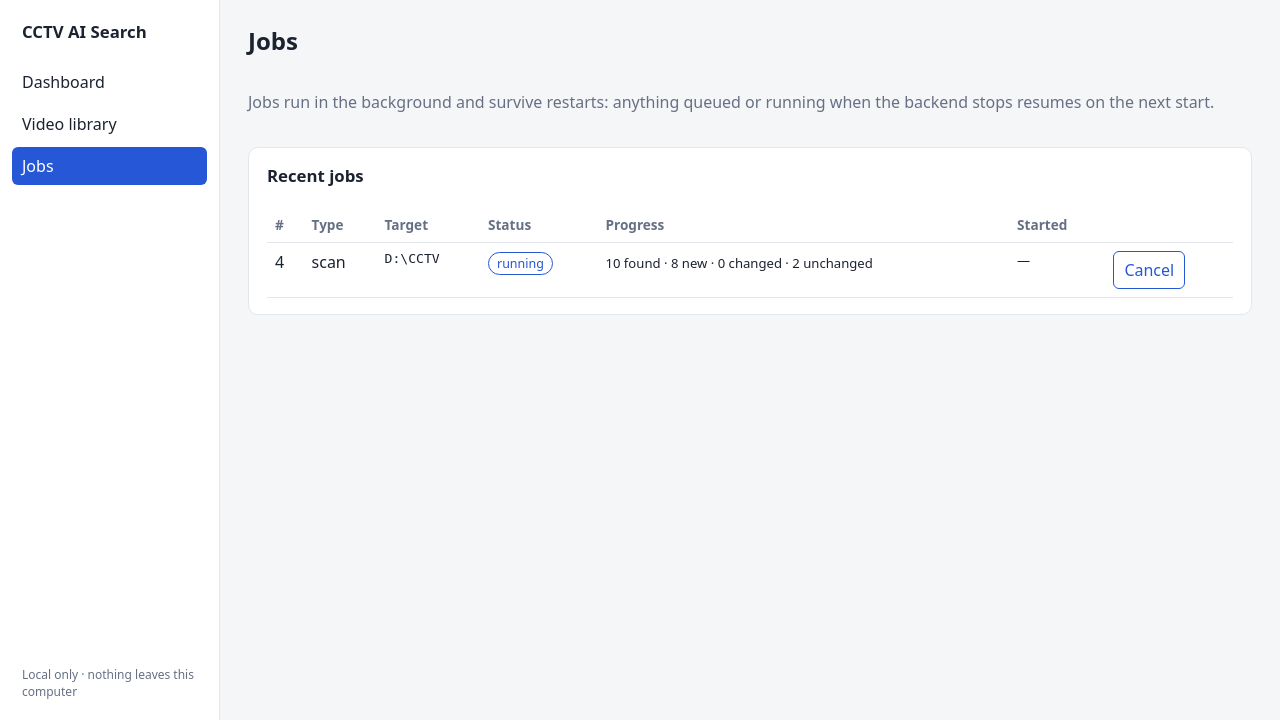
Test: Jobs › cancels a running job
Check: the text "10 found · 8 new · 0 changed · 2 unchanged" is shown, box [606, 254, 873, 272]
Click the button "Cancel" at (1149, 270), box [1113, 251, 1185, 289]
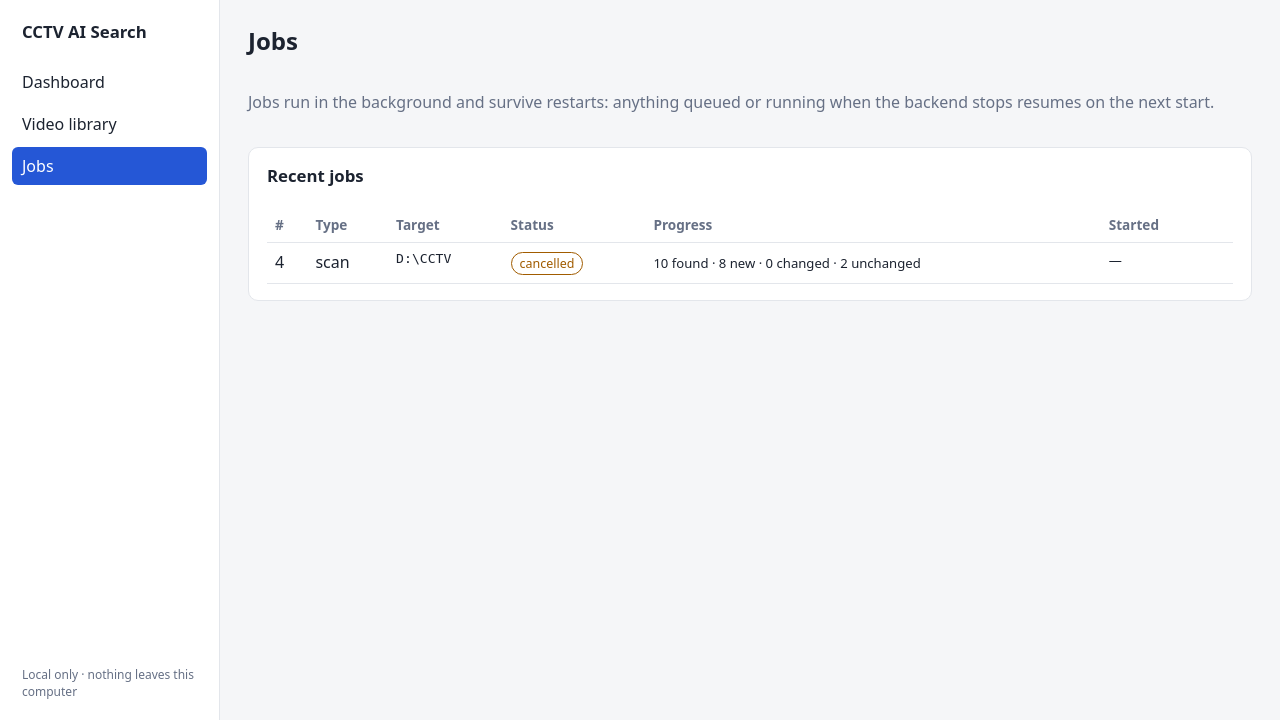
Check: the text "cancelled" is shown, box [511, 252, 583, 275]
